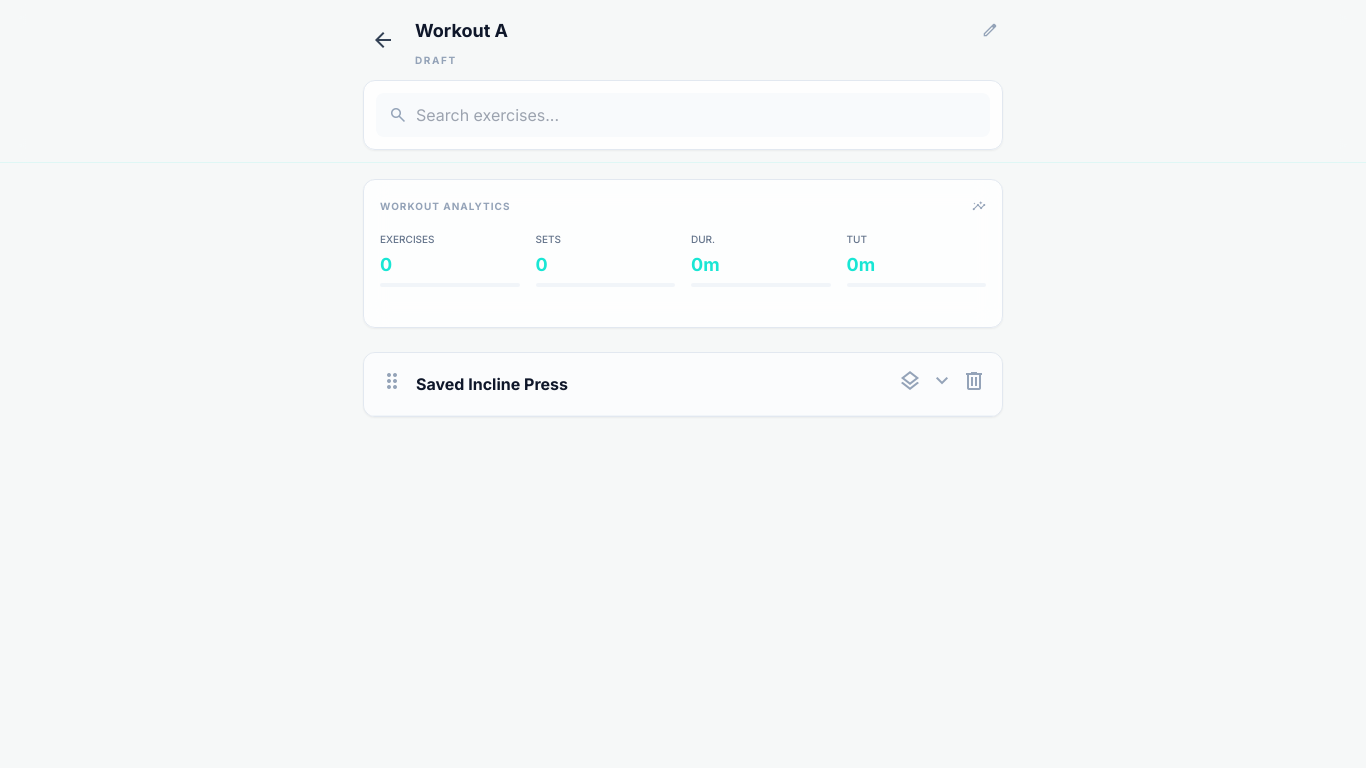
Test: ManualWorkoutEditor exercise search › shows profile-filter empty state when excluded exercises match the query
The image size is (1366, 768).
In the field with placeholder "Search exercises...": point(683, 115) [376, 93, 990, 137], type "squat"
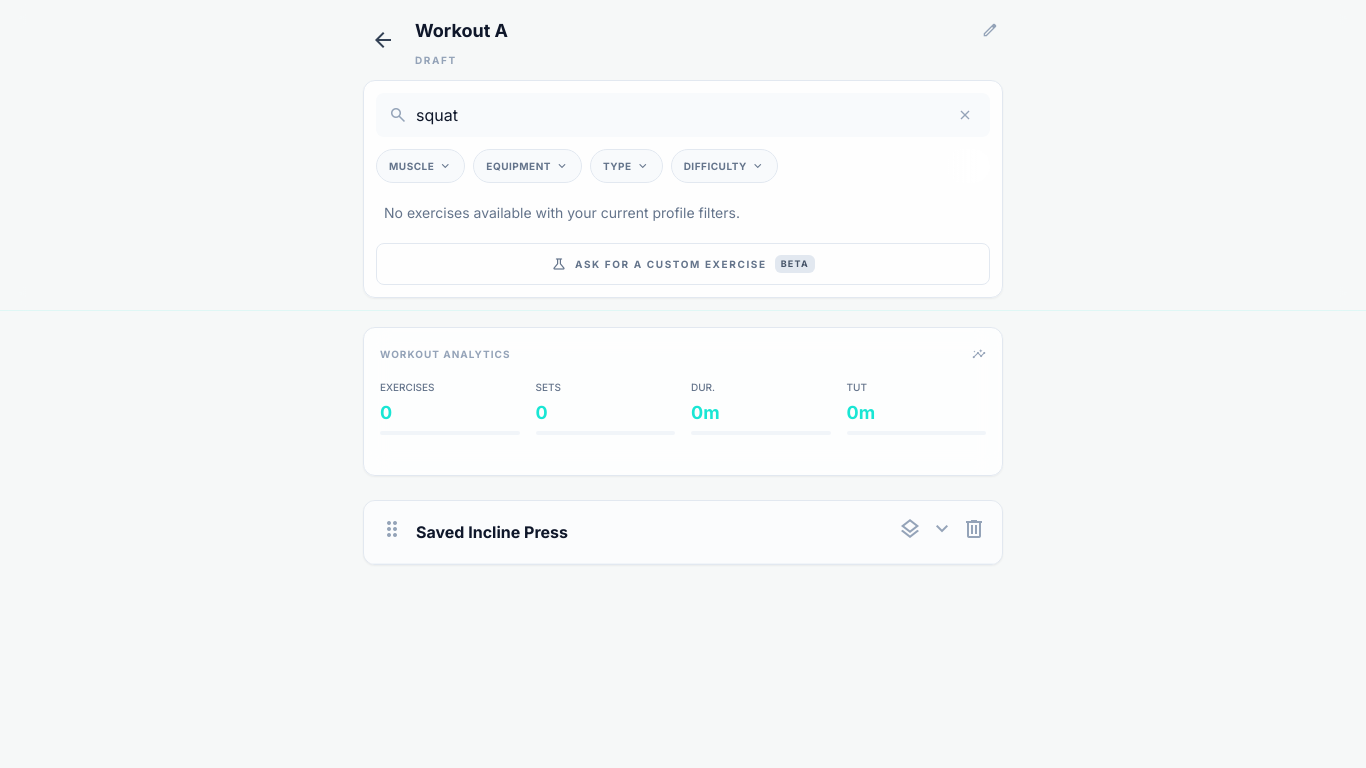
Expected: the text "No exercises available with your current profile filters." is shown, [384, 204, 740, 221]
